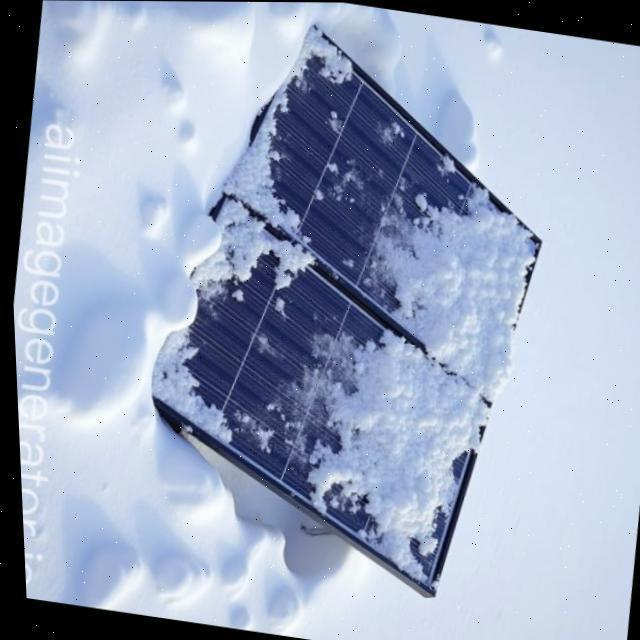Anomaly Solar Panel: (103, 191, 545, 593), (198, 23, 605, 401)
Snow: (223, 280, 545, 599), (338, 157, 543, 402), (130, 192, 320, 444), (222, 19, 390, 245), (304, 144, 382, 223), (241, 325, 282, 362), (373, 116, 406, 150), (431, 149, 461, 181), (323, 106, 347, 132), (268, 294, 286, 319), (339, 253, 355, 273), (323, 156, 338, 175), (227, 287, 244, 299)
